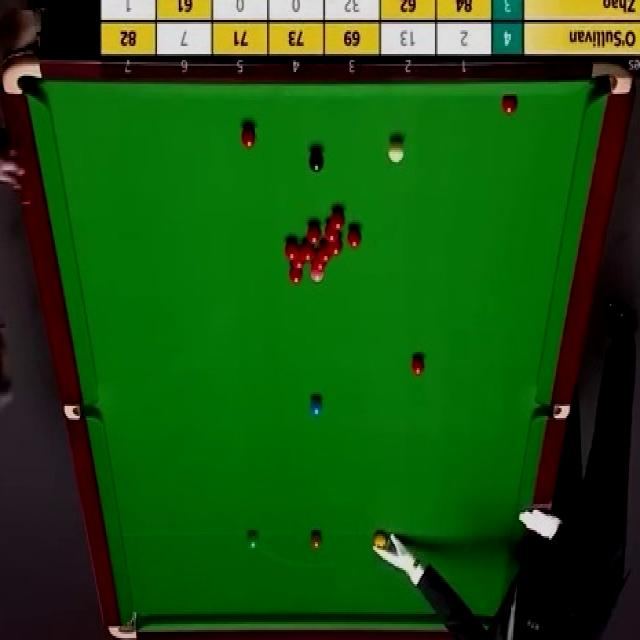pocket: (1, 55, 45, 100), (589, 55, 635, 97), (110, 608, 139, 640), (538, 402, 572, 422), (67, 405, 103, 420)
